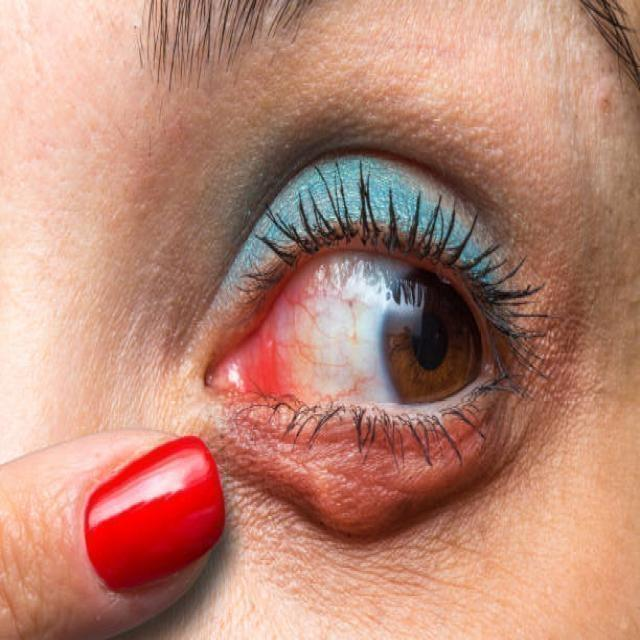Conjunctivitis: (192, 250, 521, 402)
